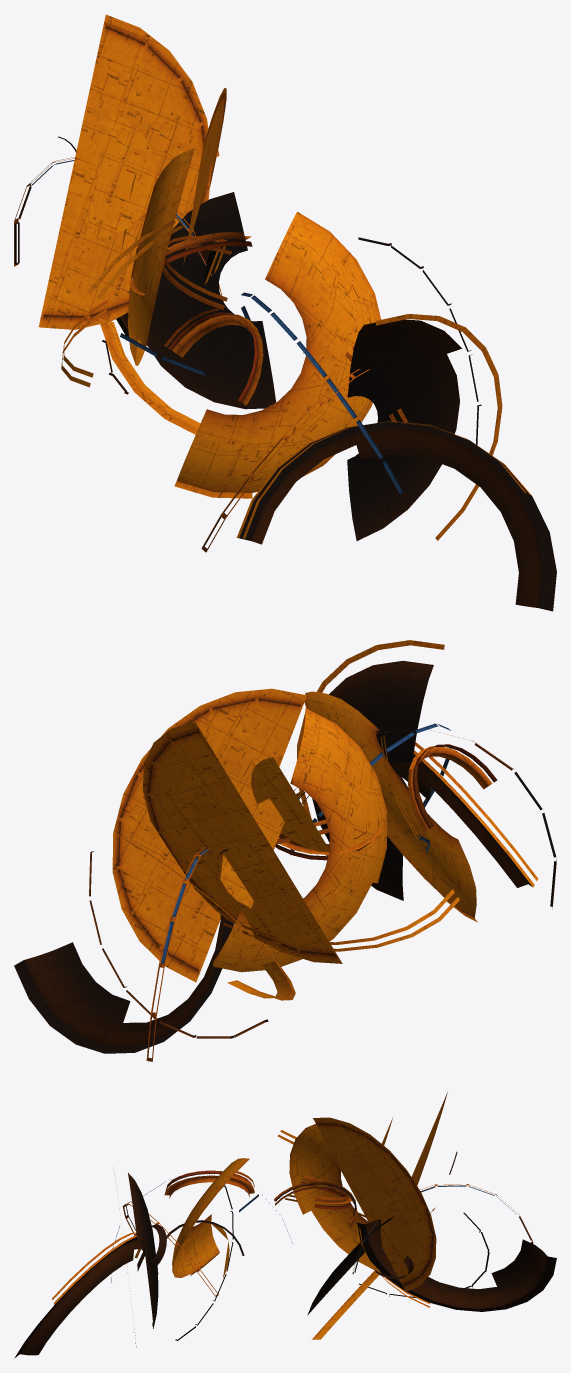
Rendered from MonsterB_Die20.obj.
3 renders of one model, top to bottom at view 1: azimuth 30°, elevation 25°; view 2: azimuth 150°, elevation 25°; view 3: azimuth 270°, elevation 25°, orthographic. The views are drawn at different scales.
Parts seen in each view (by area): view 1: Sphere001; view 2: Sphere001; view 3: Sphere001.
Part boxes in pixels (x1=…): Sphere001: x1=14, y1=14, x2=556, y2=611; Sphere001: x1=14, y1=640, x2=556, y2=1061; Sphere001: x1=14, y1=1091, x2=556, y2=1358.
Bounding box in the file's own units: 236 × 259 × 536.
Materials: 1 (1 with a texture image).
